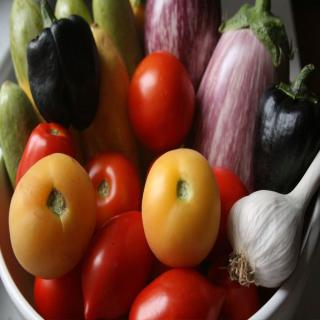tomato: (9, 153, 97, 284), (138, 148, 222, 267), (78, 210, 153, 320), (123, 48, 197, 150), (84, 151, 150, 232), (131, 266, 226, 319), (198, 164, 247, 265), (10, 122, 76, 192), (208, 254, 256, 319), (32, 274, 88, 318)
